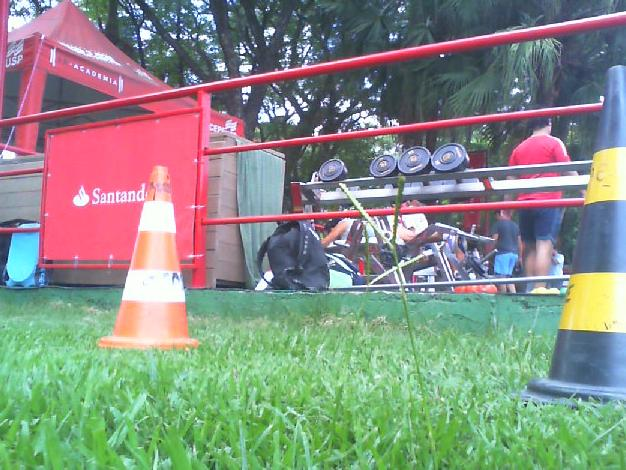0 cone: (526, 66, 626, 405), (96, 165, 199, 350), (96, 165, 200, 348)
